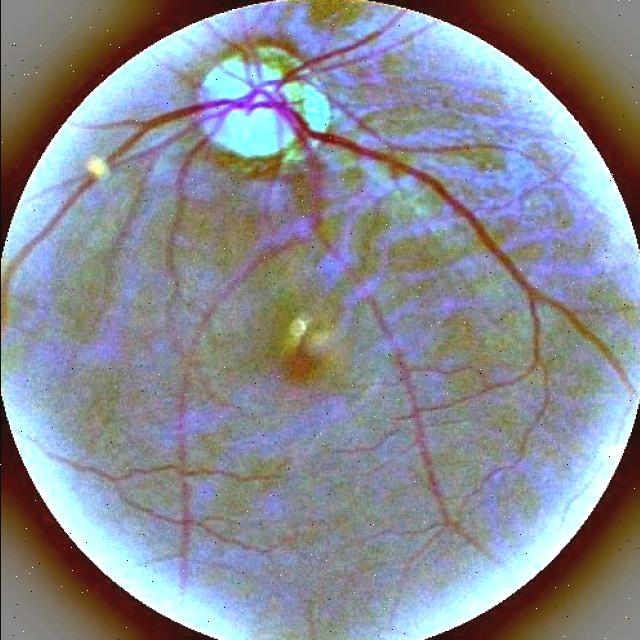Macula: (281, 312, 333, 383)
Nerves: (103, 30, 538, 299), (275, 101, 538, 298), (550, 302, 625, 385), (565, 310, 619, 373)
Optic Disk: (201, 58, 330, 160)
